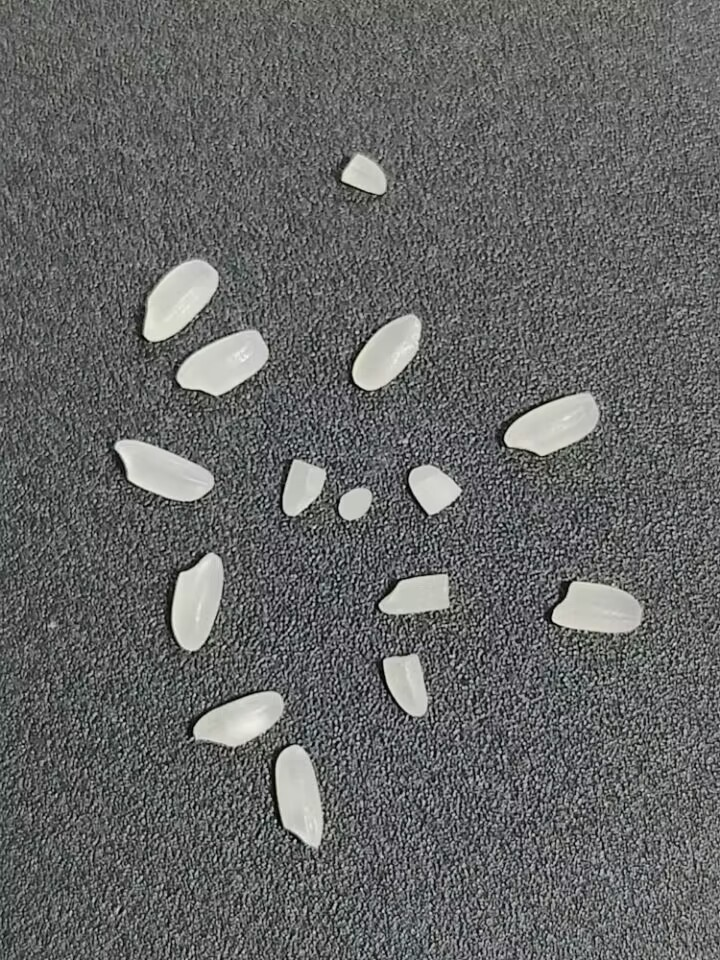broken: (371, 572, 458, 623), (399, 462, 467, 522), (272, 455, 331, 523), (380, 652, 431, 718), (339, 150, 393, 205), (337, 484, 376, 522)
rice: (137, 258, 222, 345), (111, 435, 215, 505), (174, 327, 270, 399), (503, 392, 600, 457), (350, 309, 424, 391), (169, 548, 227, 652), (192, 689, 286, 750), (274, 743, 325, 850), (549, 578, 643, 635)
